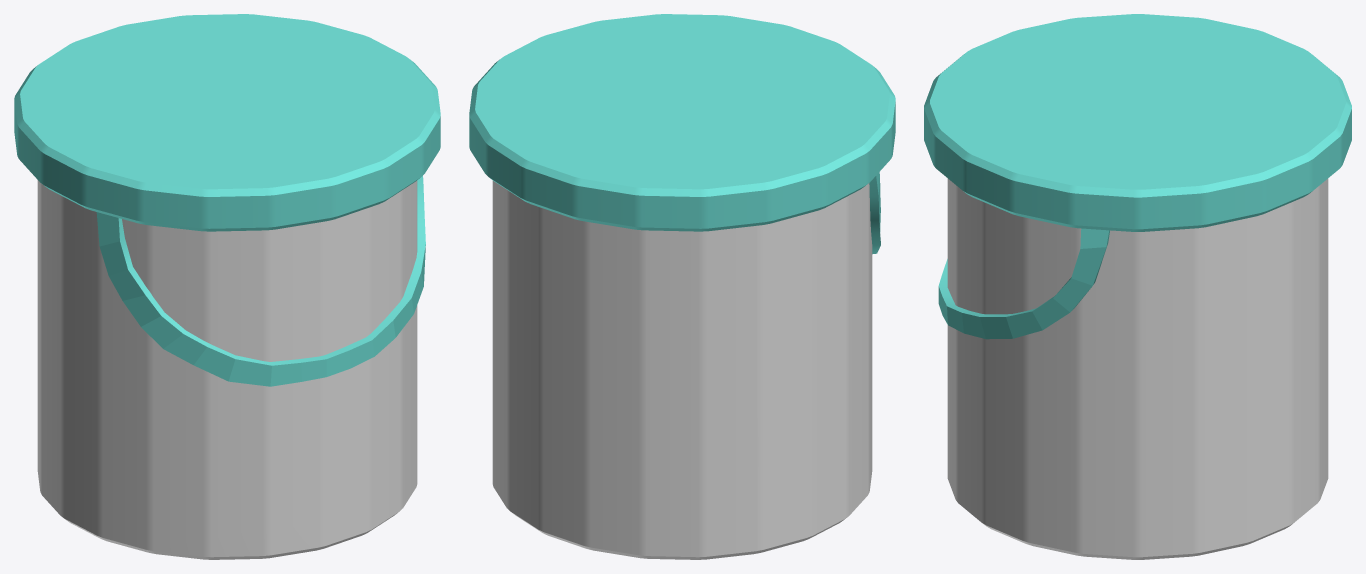
Rendered from Ürün48.fbx.
The picture shows the model from 3 angles, left to right: view 1: azimuth 30°, elevation 25°; view 2: azimuth 150°, elevation 25°; view 3: azimuth 270°, elevation 25°; orthographic projection.
Parts seen in each view (by area): view 1: pCylinder28; view 2: pCylinder28; view 3: pCylinder28.
Part boxes in pixels (left/top/right/bottom): pCylinder28: left=14, top=14, right=440, bottom=559; pCylinder28: left=469, top=14, right=895, bottom=559; pCylinder28: left=924, top=14, right=1351, bottom=559.
Size of the model in its own units: 20.06 by 19.68 by 20.06.
